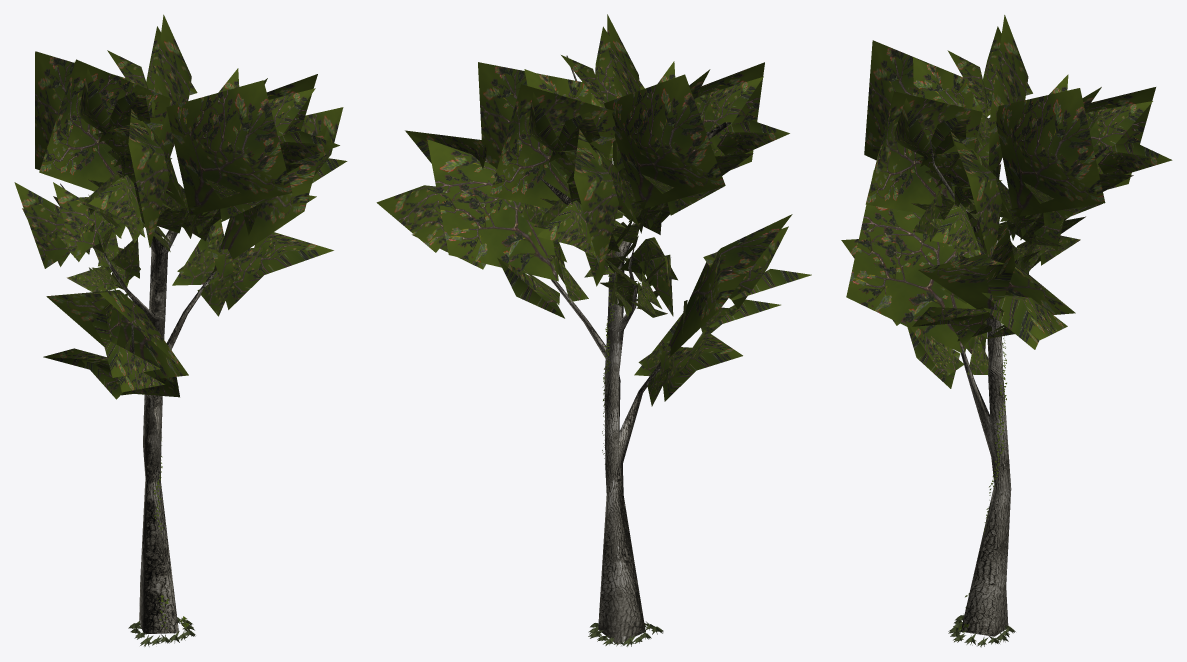
Rendered from treeA_low.obj.
3 renders of one model, left to right at view 1: azimuth 30°, elevation 25°; view 2: azimuth 150°, elevation 25°; view 3: azimuth 270°, elevation 25°, orthographic.
Bounding box in the file's own units: 11.59 × 19.21 × 9.91.
